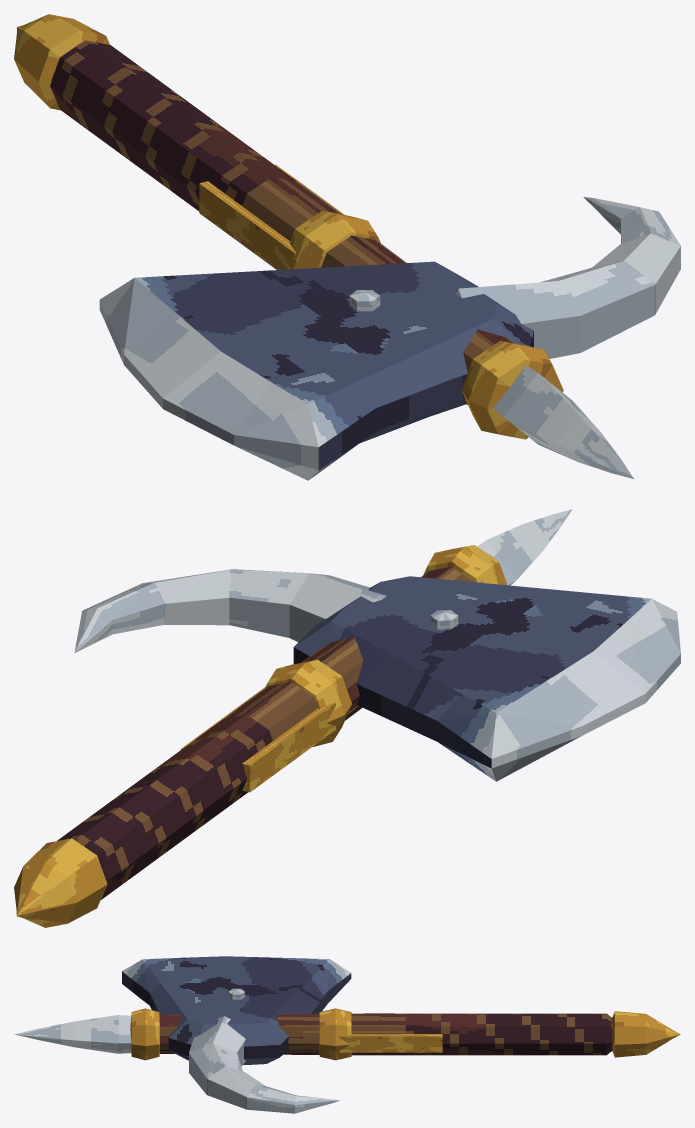
File: axt-c1-geschmiedet.glb
3 renders of one model, top to bottom at view 1: azimuth 30°, elevation 25°; view 2: azimuth 150°, elevation 25°; view 3: azimuth 270°, elevation 25°, orthographic. The views are drawn at different scales.
Visible parts, largest first — view 1: axe; view 2: axe; view 3: axe.
Boxes of the visible parts, x1,y1,x2,y2 form: axe: [14, 14, 680, 480]; axe: [14, 509, 680, 927]; axe: [14, 956, 680, 1113].
Bounding box in the file's own units: 0.318 × 0.056 × 0.6066.
Materials: 1 (1 with a texture image).
